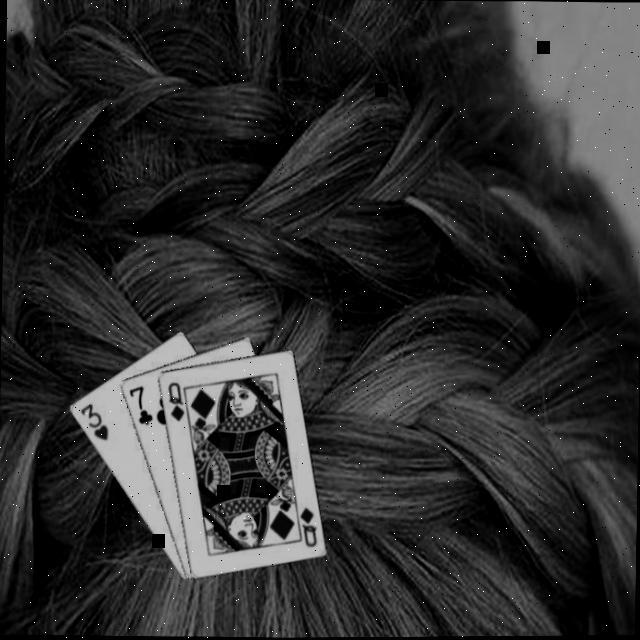3H: (76, 400, 112, 444)
7C: (126, 384, 156, 428)
QD: (296, 504, 321, 550), (164, 380, 188, 424)
